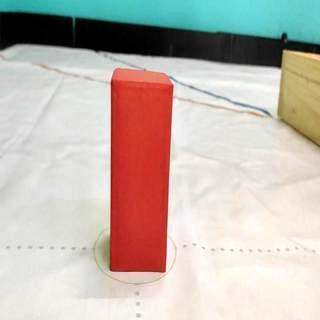redbox: (111, 68, 175, 274)
